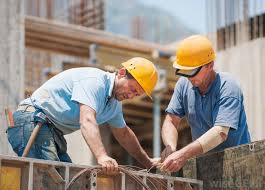hard hat: (121, 56, 159, 100), (172, 34, 216, 69)
